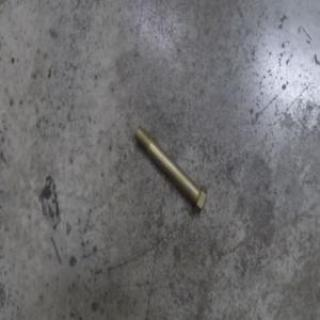Bolttrack_idkeyframe: (134, 123, 208, 215)
